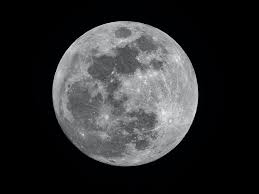moon: (51, 19, 202, 170)
